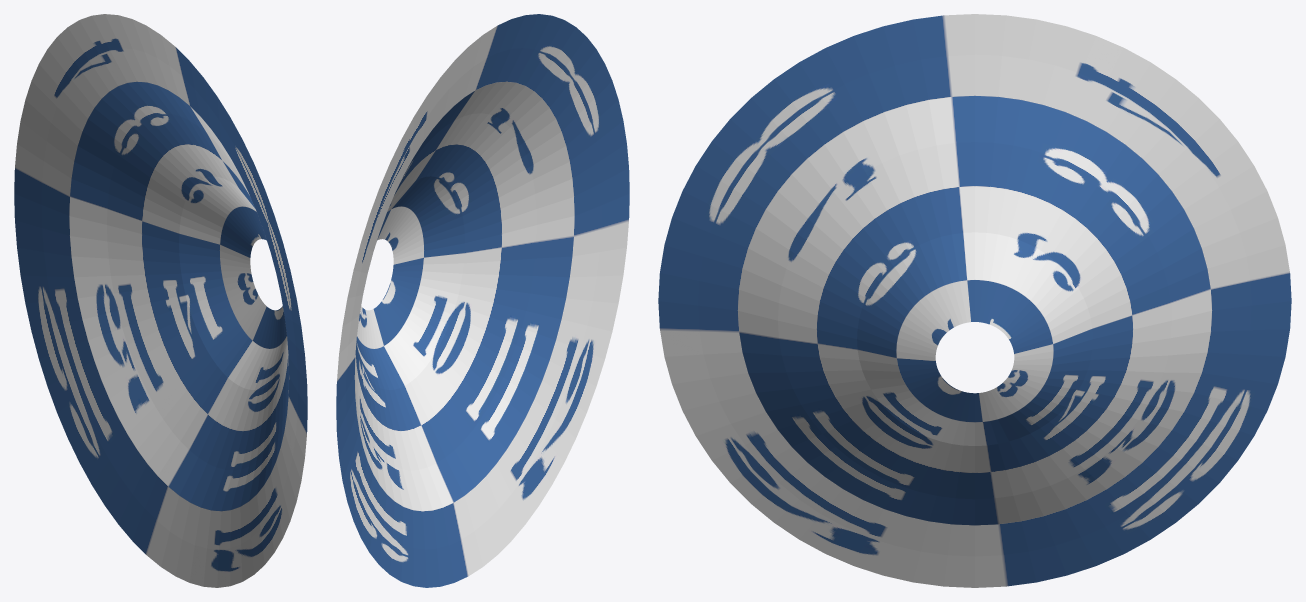
Rendered from Akaza_Ring2.fbx.
3 views of the same model, side by side, from view 1: azimuth 30°, elevation 25°; view 2: azimuth 150°, elevation 25°; view 3: azimuth 270°, elevation 25° (orthographic). The views are drawn at different scales.
Visible parts, largest first — view 1: SM_e_Plc_P1012_Ring002; view 2: SM_e_Plc_P1012_Ring002; view 3: SM_e_Plc_P1012_Ring002.
Part boxes in pixels (x1,y1,x2,y2): SM_e_Plc_P1012_Ring002: (14,14,307,587); SM_e_Plc_P1012_Ring002: (336,14,629,587); SM_e_Plc_P1012_Ring002: (658,14,1291,587).
Bounding box in the file's own units: 20.62 × 97.46 × 97.46.
